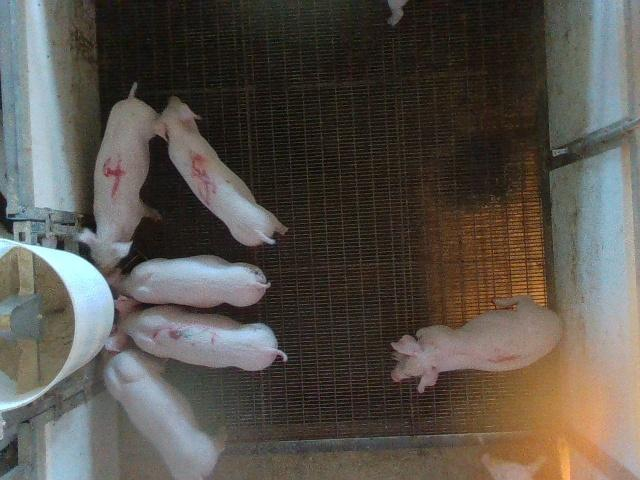pig-1: (391, 295, 560, 392)
pig-3: (105, 296, 288, 371)
pig-4: (78, 84, 158, 271)
pig-5: (155, 98, 288, 246)
